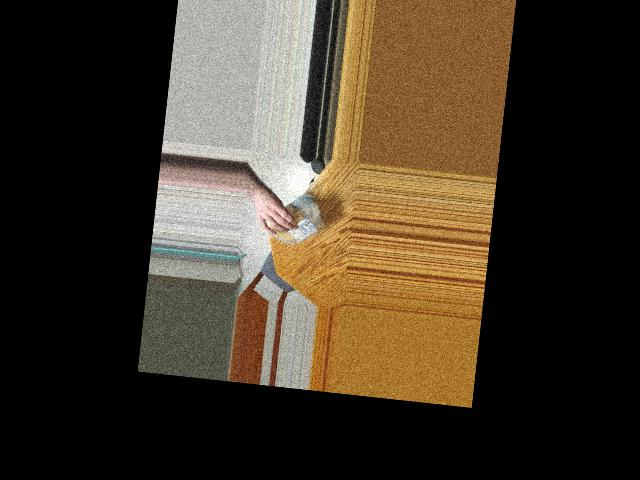cheese: (257, 191, 328, 251)
